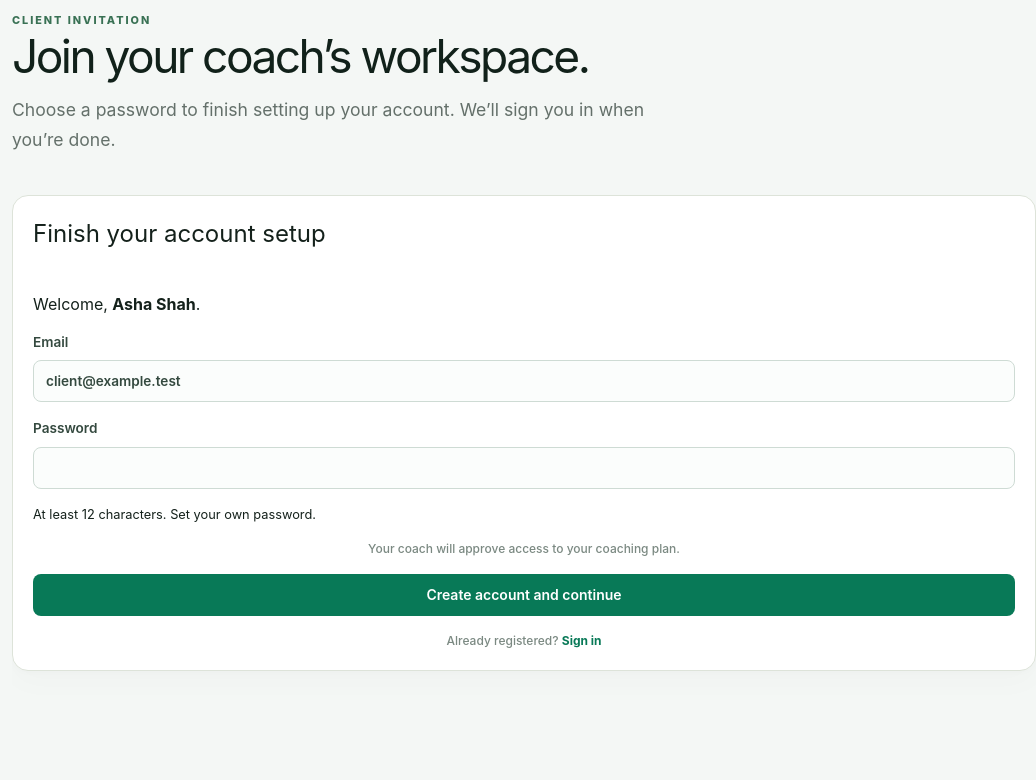
Test case: keeps registration errors recoverable and does not attempt login
The width and height of the screenshot is (1036, 780).
Type "MyChosenPassword!123" into the password field labelled "Password". click: [524, 468]
box: left=33, top=447, right=1015, bottom=489
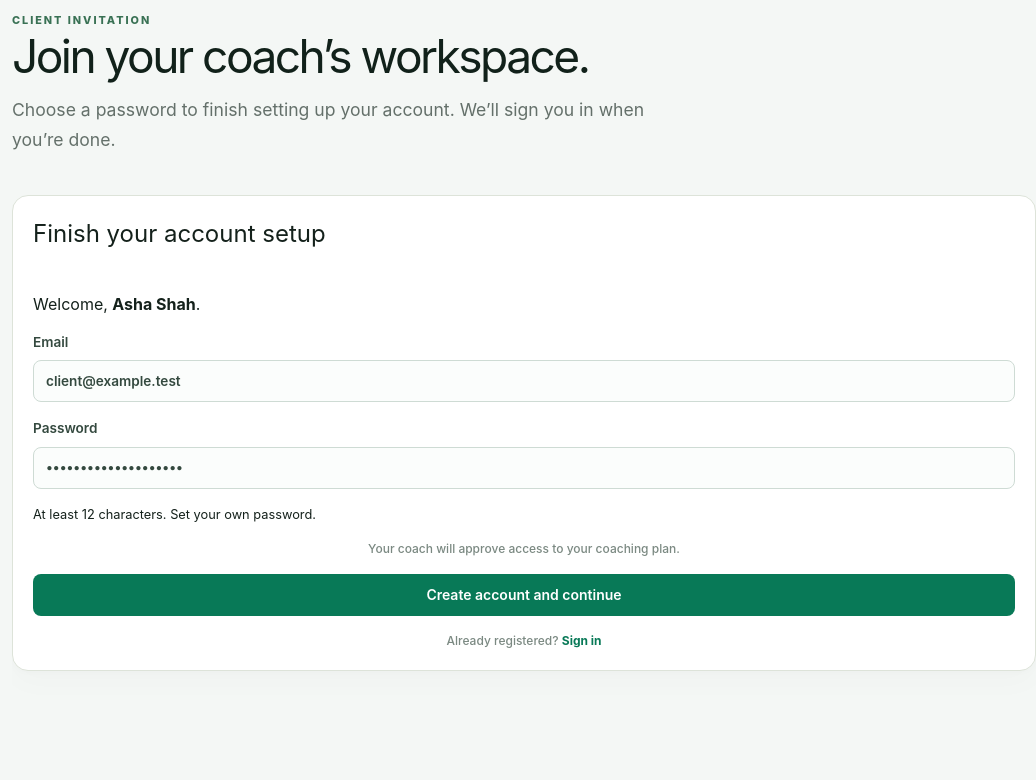
Click the button "Create account and continue". click: [524, 595]
box: left=33, top=574, right=1015, bottom=616
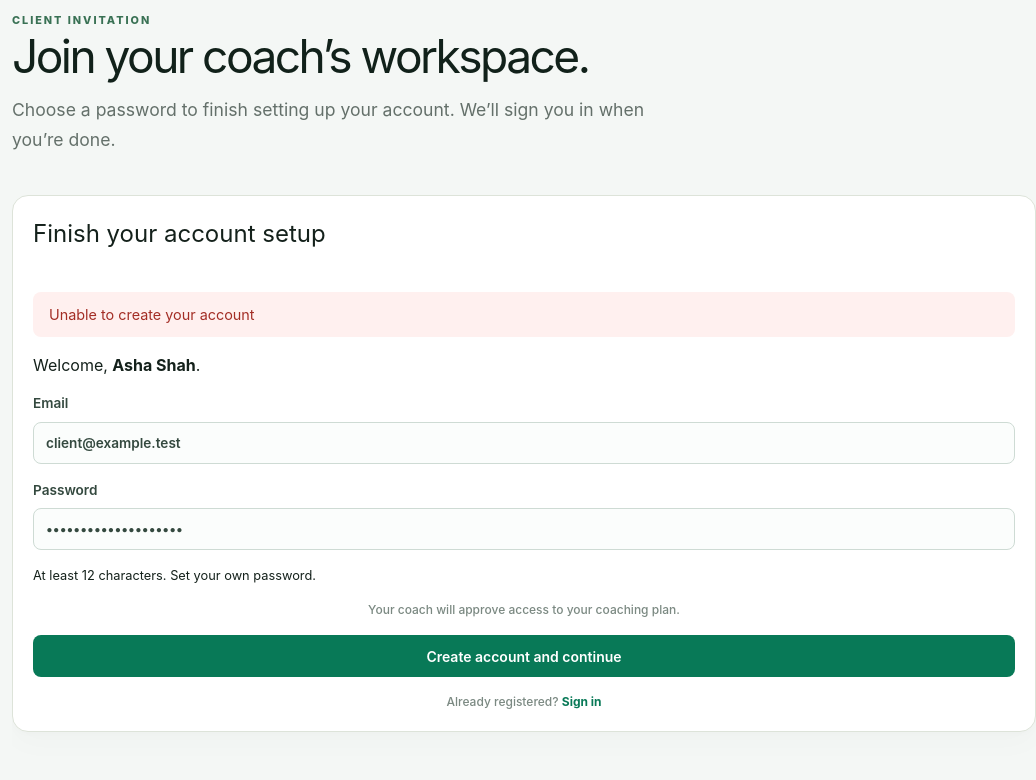
Expected: the button "Create account and continue" is enabled, left=33, top=636, right=1015, bottom=678
Expected: the message reads "Unable to create your account", left=49, top=306, right=255, bottom=323
